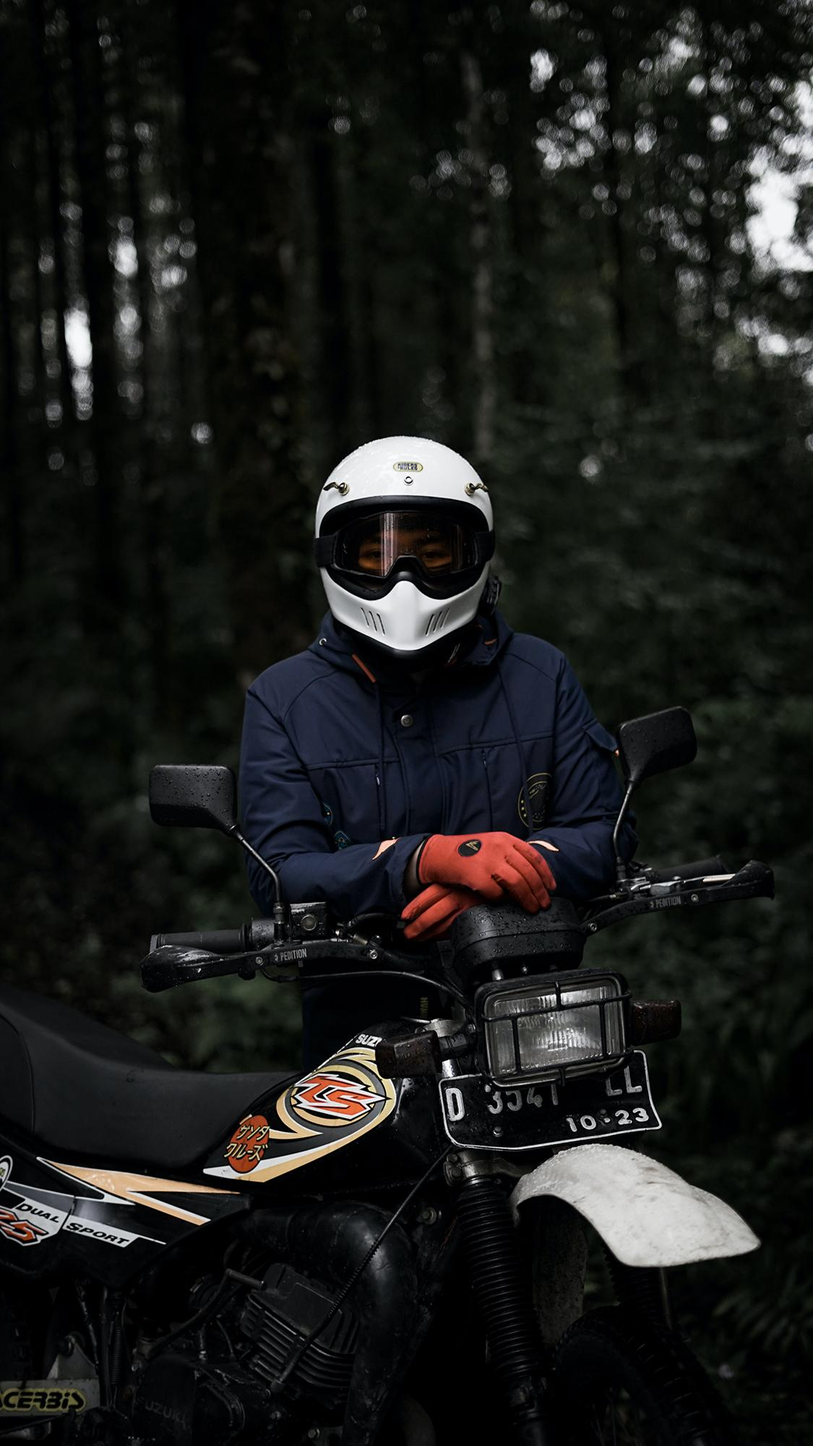helmet: (311, 434, 504, 663)
